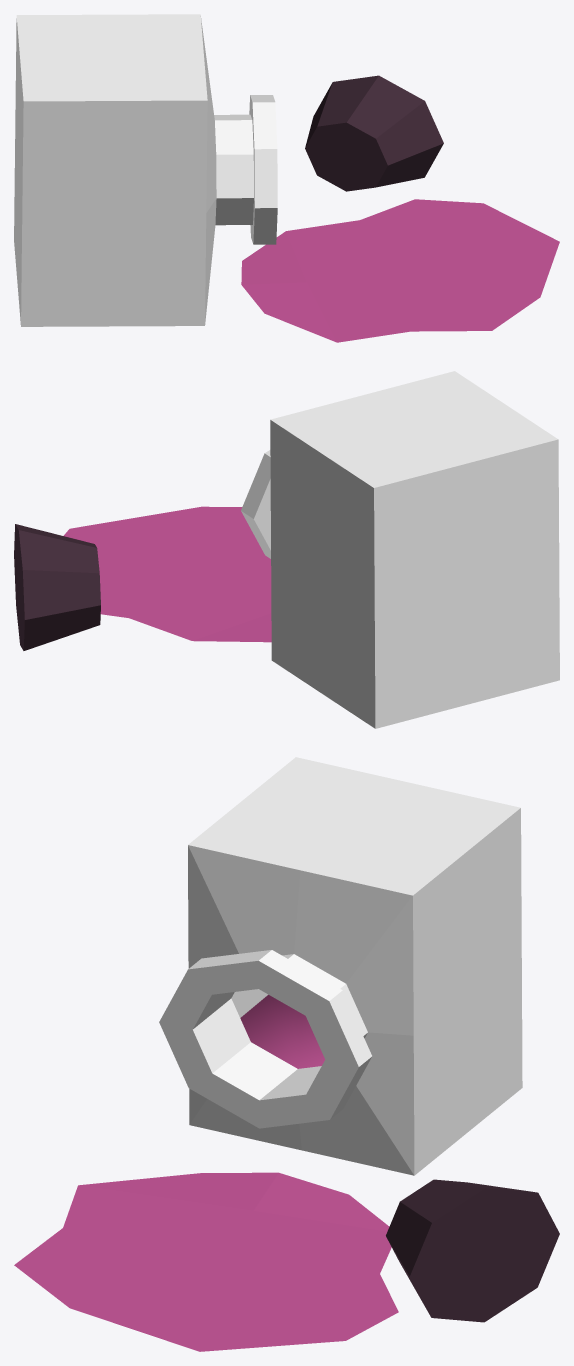
The model's file is poção-caidav1.fbx.
The picture shows the model from 3 angles, top to bottom: view 1: azimuth 30°, elevation 25°; view 2: azimuth 150°, elevation 25°; view 3: azimuth 270°, elevation 25°; orthographic projection. The views are drawn at different scales.
Parts seen in each view (by area): view 1: Plane.025; view 2: Plane.025; view 3: Plane.025.
Boxes of the visible parts, x1,y1,x2,y2 form: Plane.025: (14,14,559,342); Plane.025: (14,371,559,728); Plane.025: (14,757,559,1351).
Bounding box in the file's own units: 0.3699 × 0.1718 × 0.2803.
